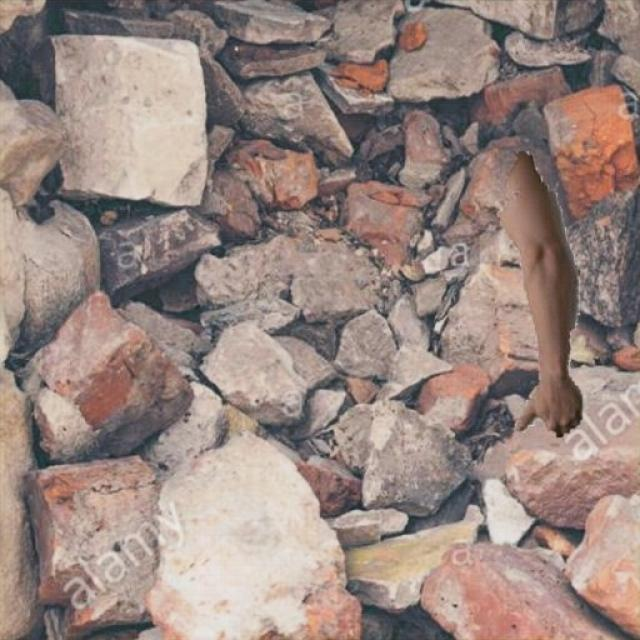Person in Rubble: (496, 152, 582, 436)
